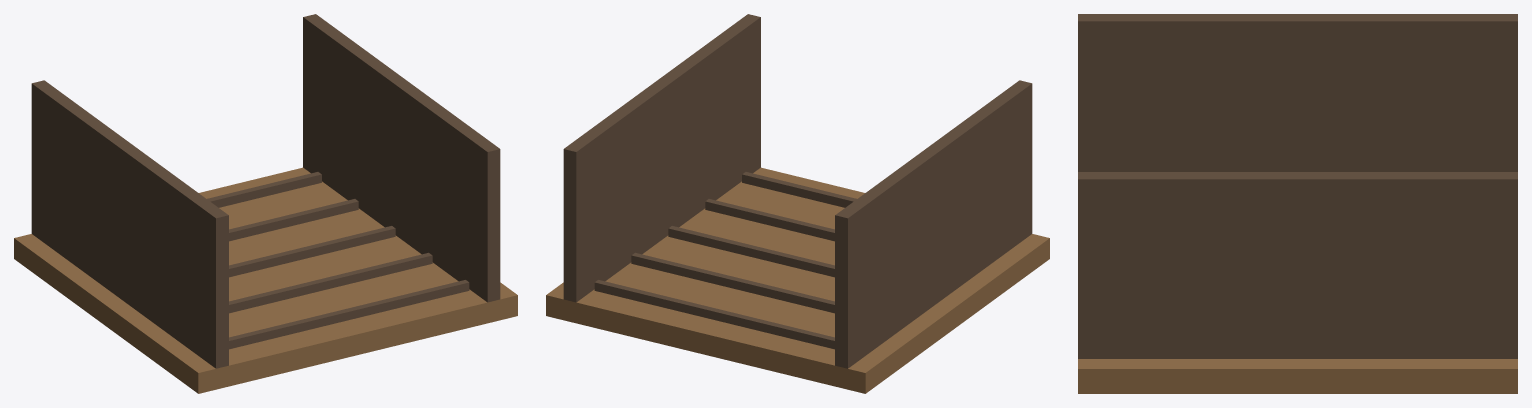
File: terrain-bridge-wood.lod0.glb
3 views of the same model, side by side, from view 1: azimuth 30°, elevation 25°; view 2: azimuth 150°, elevation 25°; view 3: azimuth 270°, elevation 25° (orthographic). The views are drawn at different scales.
Parts seen in each view (by area): view 1: terrain-bridge-wood__body; view 2: terrain-bridge-wood__body; view 3: terrain-bridge-wood__body.
Boxes of the visible parts, x1,y1,x2,y2 form: terrain-bridge-wood__body: [14, 14, 517, 393]; terrain-bridge-wood__body: [546, 14, 1049, 393]; terrain-bridge-wood__body: [1078, 14, 1517, 393].
Size of the model in its own units: 2 by 1.02 by 2.
